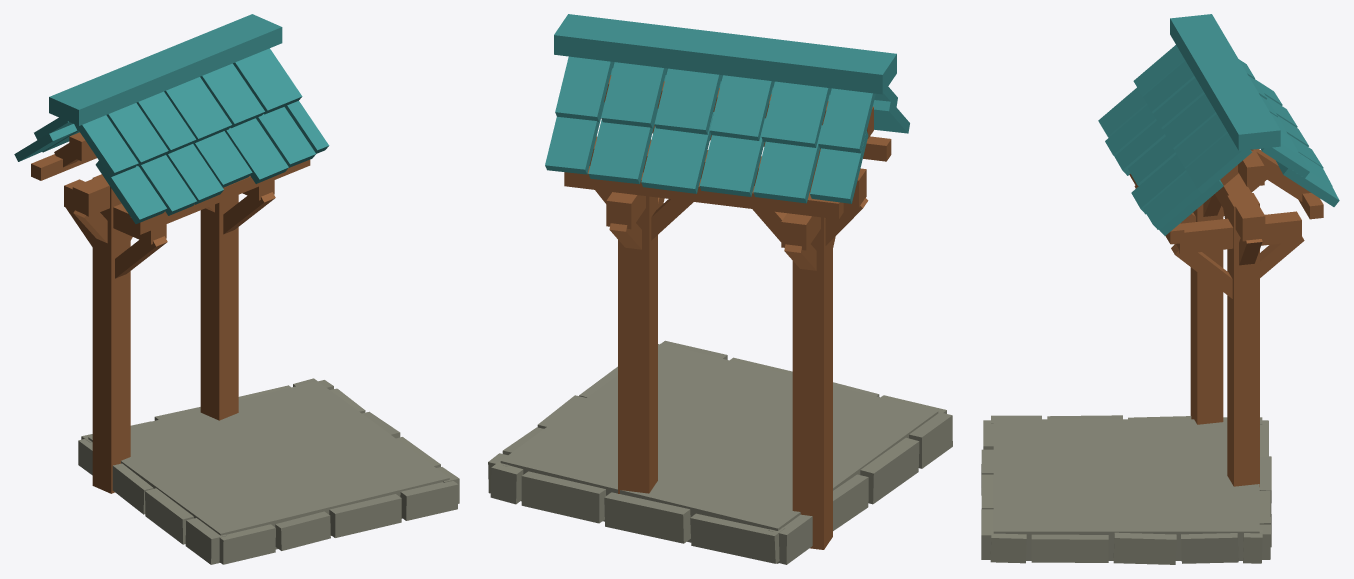
Rendered from roof.glb.
The picture shows the model from 3 angles, left to right: view 1: azimuth 30°, elevation 25°; view 2: azimuth 150°, elevation 25°; view 3: azimuth 270°, elevation 25°; orthographic projection. The views are drawn at different scales.
Parts seen in each view (by area): view 1: roof_planks, basin_core, frame_timber, stones_bottom; view 2: roof_planks, basin_core, frame_timber, stones_bottom; view 3: basin_core, roof_planks, frame_timber, stones_bottom.
Part boxes in pixels (x1,y1,x2,y2): roof_planks: (14,14,329,223); basin_core: (88,381,449,549); frame_timber: (31,132,310,493); stones_bottom: (78,378,459,564); roof_planks: (545,14,909,203); basin_core: (500,343,938,563); frame_timber: (564,75,891,549); stones_bottom: (488,340,952,564); basin_core: (993,419,1259,560); roof_planks: (1098,14,1339,235); frame_timber: (1129,149,1323,486); stones_bottom: (981,415,1271,564).
Size of the model in its own units: 1.98 by 2.48 by 1.99.
